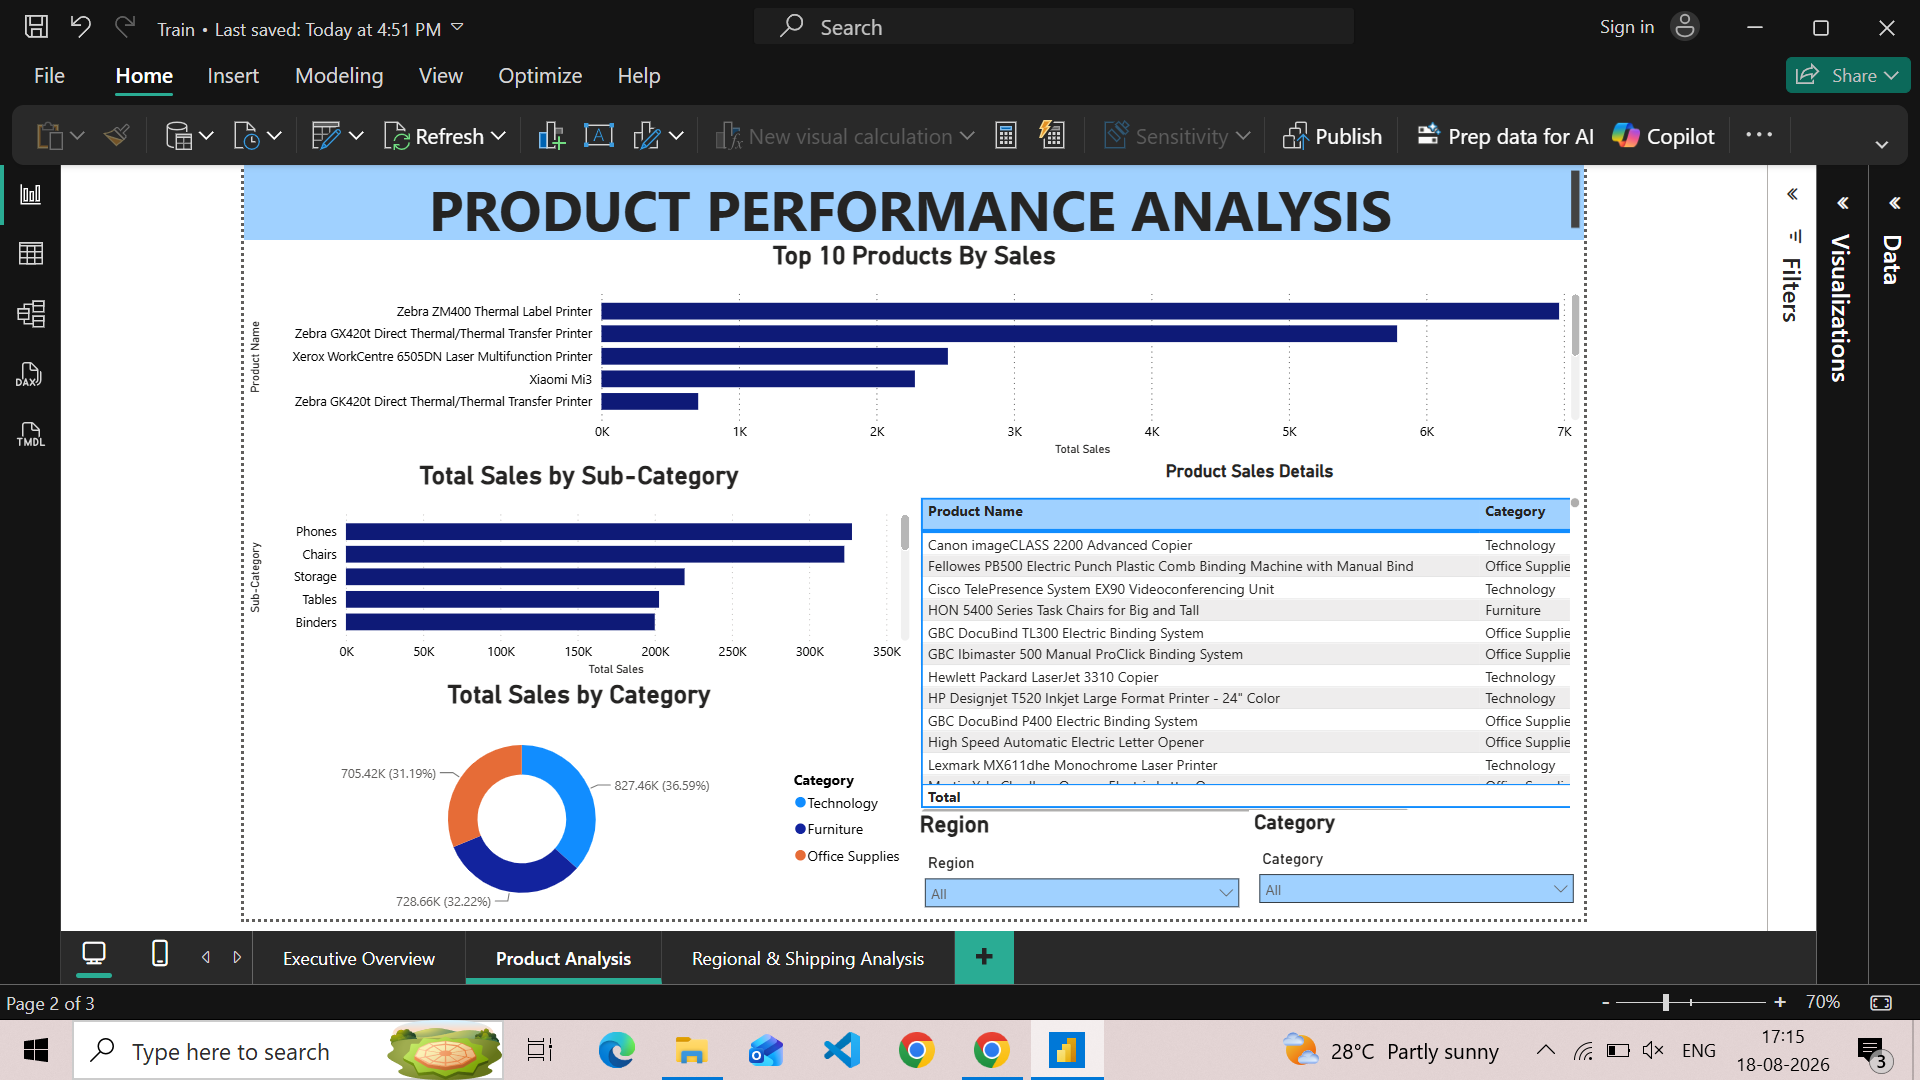

Layout of this report page (visuals, bound fields, positions):
{"tool":"powerbi","page":{"name":"Product Analysis","canvas":[1280,720],"ordinal":1},"visuals":[{"type":"textbox","box":[0,0,1280,72],"z":0},{"type":"clusteredBarChart","title":"Top 10 Products By Sales","fields":{"Y":["train.Total Sales"],"Category":["train.Product Name"]},"box":[0,72,1280,210],"z":1000},{"type":"clusteredBarChart","fields":{"Y":["train.Total Sales"],"Category":["train.Sub-Category"]},"box":[0,282,640,210],"z":2000},{"type":"donutChart","fields":{"Category":["train.Category"],"Y":["train.Total Sales"]},"box":[0,492,640,228],"z":3000},{"type":"tableEx","title":"Product Sales Details","fields":{"Values":["train.Product Name","train.Category","train.Sub-Category","train.Total Sales"]},"box":[640,282,640,346],"z":4000},{"type":"slicer","title":"Category","fields":{"Values":["train.Category"]},"box":[960,616,320,104],"z":5000},{"type":"slicer","title":"Region","fields":{"Values":["train.Region"]},"box":[640,618,320,102],"z":6000}]}

Visuals, with their boxes on the page's 1280x720 design canvas (x1, y1, x2, y2). These are canvas units, not pixel positions in the 1920x1080 screenshot, which may show the page scaled, cropped or inside an application window:
textbox: (0,0,1280,72)
"Top 10 Products By Sales" clusteredBarChart: (0,72,1280,282)
clusteredBarChart - train.Total Sales x train.Sub-Category: (0,282,640,492)
donutChart - train.Category x train.Total Sales: (0,492,640,720)
"Product Sales Details" tableEx: (640,282,1280,628)
"Category" slicer: (960,616,1280,720)
"Region" slicer: (640,618,960,720)
